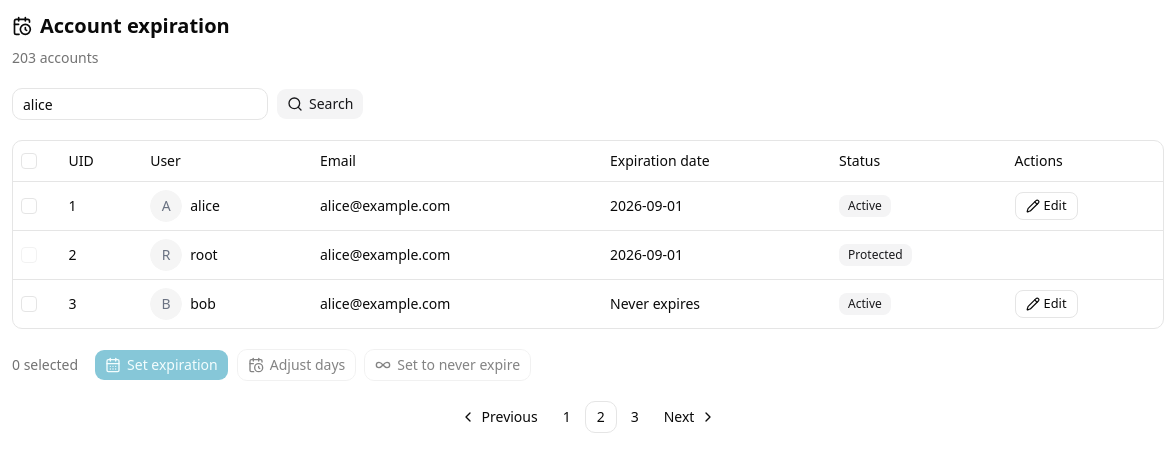
Test case: ExpirationPage › keeps protected users read-only and selects eligible users only
Click the checkbox named "Select all eligible users on this page".
click(29, 161)  # box x1=21 y1=153 x2=37 y2=169
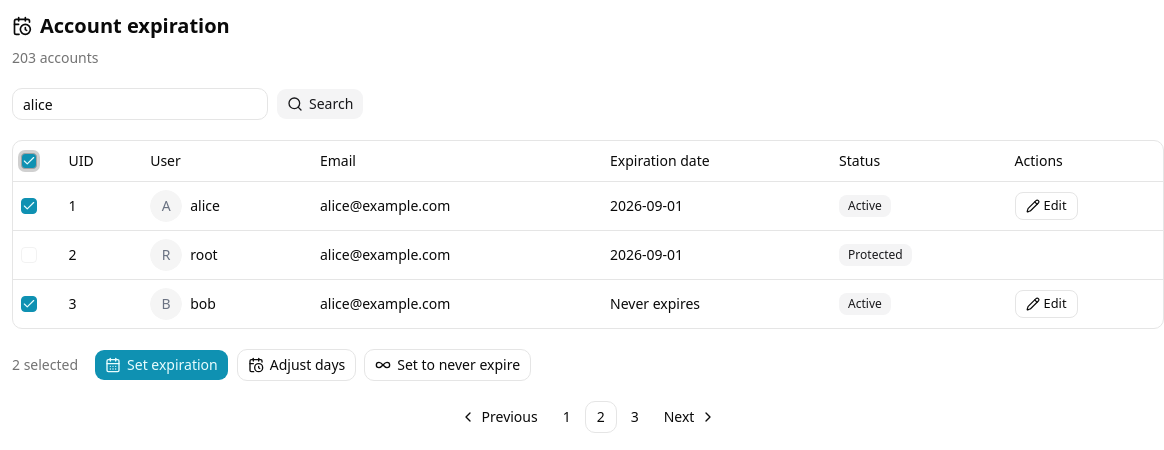
Expected: the text "2 selected" is shown, x1=12 y1=354 x2=78 y2=374
